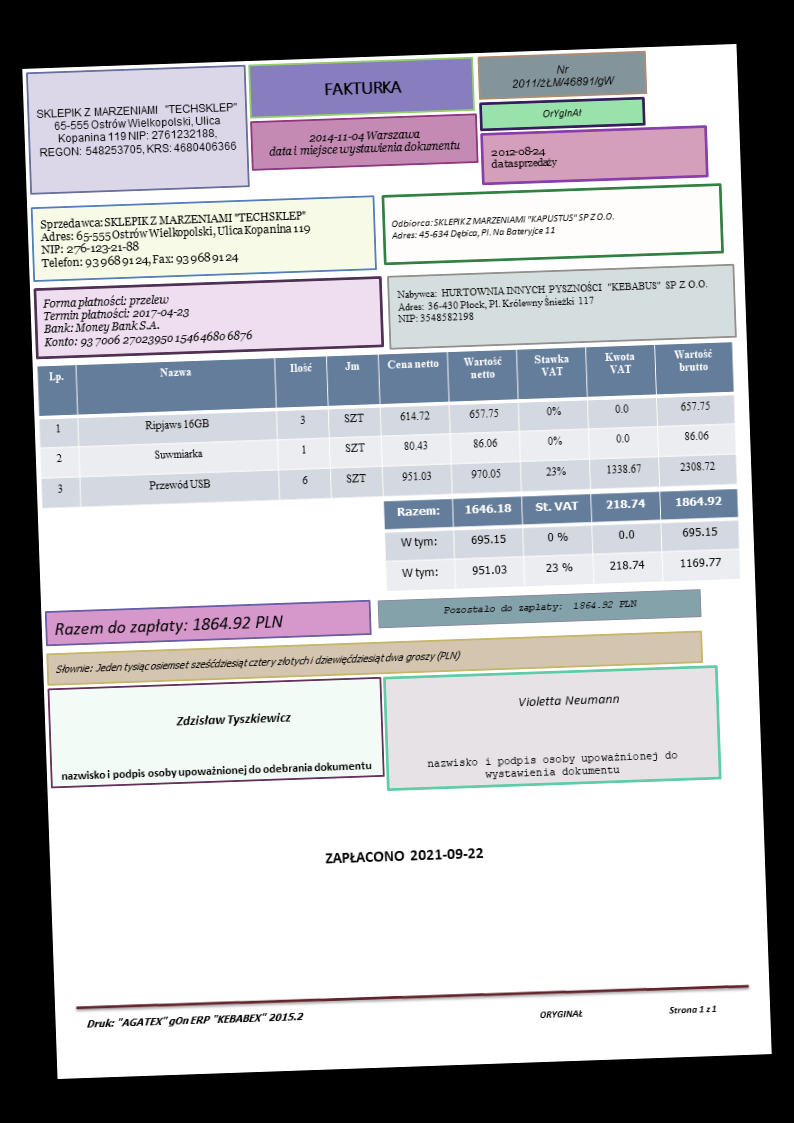Table: (34, 340, 737, 510), (381, 488, 741, 593)
TextBox: (36, 205, 315, 273), (393, 276, 710, 328), (39, 287, 256, 352), (33, 98, 240, 161), (52, 647, 463, 678), (424, 746, 684, 783), (57, 756, 375, 784), (388, 207, 614, 243), (50, 611, 285, 642), (266, 126, 463, 161), (82, 1006, 308, 1033), (534, 1000, 721, 1022), (438, 596, 639, 616), (321, 843, 488, 867), (507, 59, 618, 93), (173, 706, 293, 730), (486, 142, 559, 174), (514, 689, 620, 711), (322, 77, 405, 100), (540, 105, 585, 122)
